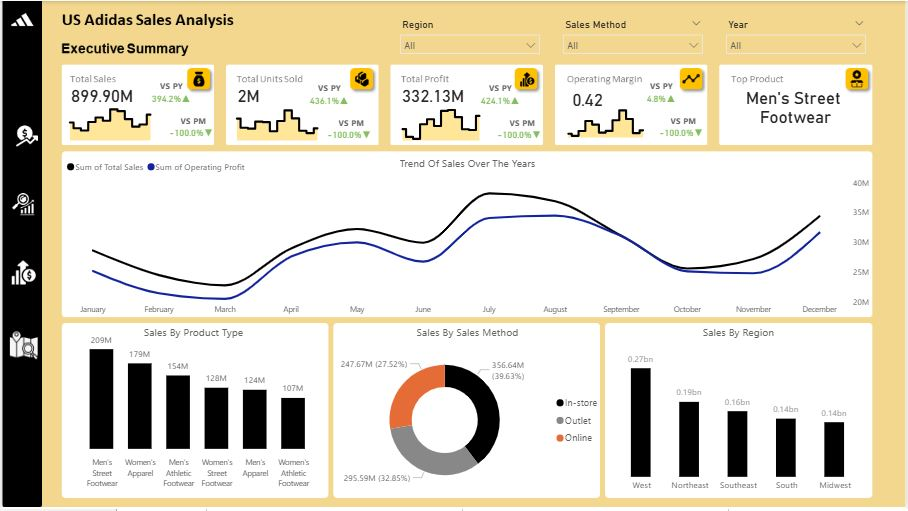

This screenshot's page, from the dashboard's own definition file:
{"tool":"powerbi","page":{"name":"Executive Summary","canvas":[1280,720],"ordinal":0},"visuals":[{"type":"card","fields":{"Values":["Data Sales Adidas (2).Total_Sales"]},"box":[70.9,107.7,141.7,52.4],"z":0},{"type":"card","fields":{"Values":["Data Sales Adidas (2).Total_Units_Sold"]},"box":[309,106.3,80.8,53.9],"z":1000},{"type":"card","fields":{"Values":["Data Sales Adidas (2).Total_Profit"]},"box":[551.3,106.3,119.1,53.9],"z":2000},{"type":"card","fields":{"Values":["Data Sales Adidas (2).Averag_Operating_margin"]},"box":[763.9,117.6,131.8,42.5],"z":3000},{"type":"lineChart","fields":{"Y":["Sum(Data Sales Adidas (2).Total Sales)"],"Category":["Date_Table.Main_date.Variation.Date Hierarchy.Month"],"Y2":["Sum(Data Sales Adidas (2).Operating Profit)"]},"box":[86.5,215.4,1142.4,239.5],"z":4000},{"type":"columnChart","fields":{"Y":["Sum(Data Sales Adidas (2).Total Sales)"],"Category":["Data Sales Adidas (2).Product"]},"box":[86.5,455,371.3,243.8],"z":5000},{"type":"donutChart","fields":{"Category":["Data Sales Adidas (2).Sales Method"],"Y":["Sum(Data Sales Adidas (2).Total Sales)"]},"box":[464.9,483.3,394,221.1],"z":6000},{"type":"columnChart","title":"Sales by Region","fields":{"Y":["Sum(Data Sales Adidas (2).Total Sales)"],"Category":["Data Sales Adidas (2).Region"]},"box":[858.9,483.3,369.9,221.1],"z":7000},{"type":"card","fields":{"Values":["Data Sales Adidas (2).Top Product Bought"]},"box":[1016.2,107.7,216.9,83.6],"z":8000},{"type":"shape","box":[965.2,455,157.3,28.3],"z":9000},{"type":"shape","box":[581.1,455,157.3,28.3],"z":10000},{"type":"shape","box":[192.8,455,157.3,28.3],"z":11000},{"type":"shape","box":[549.9,215.4,219.7,28.3],"z":12000},{"type":"lineChart","fields":{"Y":["Sum(Data Sales Adidas (2).Total Sales)"],"Category":["Date_Table.Month"]},"box":[70.9,136.1,185.7,66.6],"z":13000},{"type":"shape","box":[202.7,106.3,75.1,28.3],"z":14000},{"type":"card","fields":{"Values":["Data Sales Adidas (2).YOY Sales"]},"box":[201.3,124.7,78,22.7],"z":15000},{"type":"shape","box":[233.9,155.9,75.1,28.3],"z":16000},{"type":"card","fields":{"Values":["Data Sales Adidas (2).MoM sales"]},"box":[229.6,172.9,78,22.7],"z":17000},{"type":"shape","box":[426.7,109.2,75.1,28.3],"z":18000},{"type":"card","fields":{"Values":["Data Sales Adidas (2).YOY Units"]},"box":[425.3,127.6,78,22.7],"z":19000},{"type":"shape","box":[457.9,158.8,75.1,28.3],"z":20000},{"type":"card","fields":{"Values":["Data Sales Adidas (2).MoM units"]},"box":[453.6,175.8,78,22.7],"z":21000},{"type":"shape","box":[669.1,109.2,75.1,28.3],"z":22000},{"type":"card","fields":{"Values":["Data Sales Adidas (2).YOY Profit"]},"box":[667.6,127.6,78,22.7],"z":23000},{"type":"shape","box":[700.2,158.8,75.1,28.3],"z":24000},{"type":"card","fields":{"Values":["Data Sales Adidas (2).MoM Profit"]},"box":[694.5,175.7,78,22.7],"z":25000},{"type":"shape","box":[897.2,106.3,75.1,28.3],"z":26000},{"type":"card","fields":{"Values":["Data Sales Adidas (2).YOY operating margin"]},"box":[895.8,124.8,78,22.7],"z":27000},{"type":"shape","box":[928.4,156,75.1,28.3],"z":28000},{"type":"card","fields":{"Values":["Data Sales Adidas (2).MoM Margin"]},"box":[924.2,173,78,22.7],"z":29000},{"type":"lineChart","fields":{"Category":["Date_Table.Month"],"Y":["Data Sales Adidas (2).Total_Units_Sold"]},"box":[307.6,124.7,185.7,78],"z":30000},{"type":"lineChart","fields":{"Category":["Date_Table.Month"],"Y":["Data Sales Adidas (2).Total_Profit"]},"box":[542.8,138.9,178.6,63.8],"z":31000},{"type":"lineChart","fields":{"Category":["Date_Table.Month"],"Y":["Data Sales Adidas (2).Averag_Operating_margin"]},"box":[778.1,134.6,174.3,63.8],"z":32000},{"type":"slicer","fields":{"Values":["Date_Table.Main_date.Variation.Date Hierarchy.Year","Date_Table.Main_date.Variation.Date Hierarchy.Quarter","Date_Table.Main_date.Variation.Date Hierarchy.Month","Date_Table.Main_date.Variation.Date Hierarchy.Day"]},"box":[1016.2,19.8,218.3,56.7],"z":33000},{"type":"slicer","fields":{"Values":["Data Sales Adidas (2).Sales Method"]},"box":[785.2,19.8,218.3,56.7],"z":34000},{"type":"slicer","fields":{"Values":["Data Sales Adidas (2).Region"]},"box":[554.2,19.8,218.3,56.7],"z":35000},{"type":"image","box":[0.5,170.1,70.9,41.1],"z":36000},{"type":"image","box":[2.5,266,55.3,42.5],"z":37000},{"type":"image","box":[2.5,363.3,55.3,43.9],"z":38000},{"type":"image","box":[2.5,462,55.3,52.4],"z":39000}]}

Visuals, with their boxes in screenshot pixels (x1, y1, x2, y2), scaled from the page's 1280x720 canvas onto the 908x511 screenshot:
card - Data Sales Adidas (2).Total_Sales: (x1=50, y1=76, x2=151, y2=114)
card - Data Sales Adidas (2).Total_Units_Sold: (x1=219, y1=75, x2=277, y2=114)
card - Data Sales Adidas (2).Total_Profit: (x1=391, y1=75, x2=476, y2=114)
card - Data Sales Adidas (2).Averag_Operating_margin: (x1=542, y1=83, x2=635, y2=114)
lineChart - Sum(Data Sales Adidas (2).Total Sales) x Date_Table.Main_date.Variation.Date Hierarchy.Month: (x1=61, y1=153, x2=872, y2=323)
columnChart - Sum(Data Sales Adidas (2).Total Sales) x Data Sales Adidas (2).Product: (x1=61, y1=323, x2=325, y2=496)
donutChart - Data Sales Adidas (2).Sales Method x Sum(Data Sales Adidas (2).Total Sales): (x1=330, y1=343, x2=609, y2=500)
"Sales by Region" columnChart: (x1=609, y1=343, x2=872, y2=500)
card - Data Sales Adidas (2).Top Product Bought: (x1=721, y1=76, x2=875, y2=136)
shape: (x1=685, y1=323, x2=796, y2=343)
shape: (x1=412, y1=323, x2=524, y2=343)
shape: (x1=137, y1=323, x2=248, y2=343)
shape: (x1=390, y1=153, x2=546, y2=173)
lineChart - Sum(Data Sales Adidas (2).Total Sales) x Date_Table.Month: (x1=50, y1=97, x2=182, y2=144)
shape: (x1=144, y1=75, x2=197, y2=96)
card - Data Sales Adidas (2).YOY Sales: (x1=143, y1=89, x2=198, y2=105)
shape: (x1=166, y1=111, x2=219, y2=131)
card - Data Sales Adidas (2).MoM sales: (x1=163, y1=123, x2=218, y2=139)
shape: (x1=303, y1=78, x2=356, y2=98)
card - Data Sales Adidas (2).YOY Units: (x1=302, y1=91, x2=357, y2=107)
shape: (x1=325, y1=113, x2=378, y2=133)
card - Data Sales Adidas (2).MoM units: (x1=322, y1=125, x2=377, y2=141)
shape: (x1=475, y1=78, x2=528, y2=98)
card - Data Sales Adidas (2).YOY Profit: (x1=474, y1=91, x2=529, y2=107)
shape: (x1=497, y1=113, x2=550, y2=133)
card - Data Sales Adidas (2).MoM Profit: (x1=493, y1=125, x2=548, y2=141)
shape: (x1=636, y1=75, x2=690, y2=96)
card - Data Sales Adidas (2).YOY operating margin: (x1=635, y1=89, x2=691, y2=105)
shape: (x1=659, y1=111, x2=712, y2=131)
card - Data Sales Adidas (2).MoM Margin: (x1=656, y1=123, x2=711, y2=139)
lineChart - Date_Table.Month x Data Sales Adidas (2).Total_Units_Sold: (x1=218, y1=89, x2=350, y2=144)
lineChart - Date_Table.Month x Data Sales Adidas (2).Total_Profit: (x1=385, y1=99, x2=512, y2=144)
lineChart - Date_Table.Month x Data Sales Adidas (2).Averag_Operating_margin: (x1=552, y1=96, x2=676, y2=141)
slicer - Date_Table.Main_date.Variation.Date Hierarchy.Year x Date_Table.Main_date.Variation.Date Hierarchy.Quarter: (x1=721, y1=14, x2=876, y2=54)
slicer - Data Sales Adidas (2).Sales Method: (x1=557, y1=14, x2=712, y2=54)
slicer - Data Sales Adidas (2).Region: (x1=393, y1=14, x2=548, y2=54)
image: (x1=0, y1=121, x2=51, y2=150)
image: (x1=2, y1=189, x2=41, y2=219)
image: (x1=2, y1=258, x2=41, y2=289)
image: (x1=2, y1=328, x2=41, y2=365)
